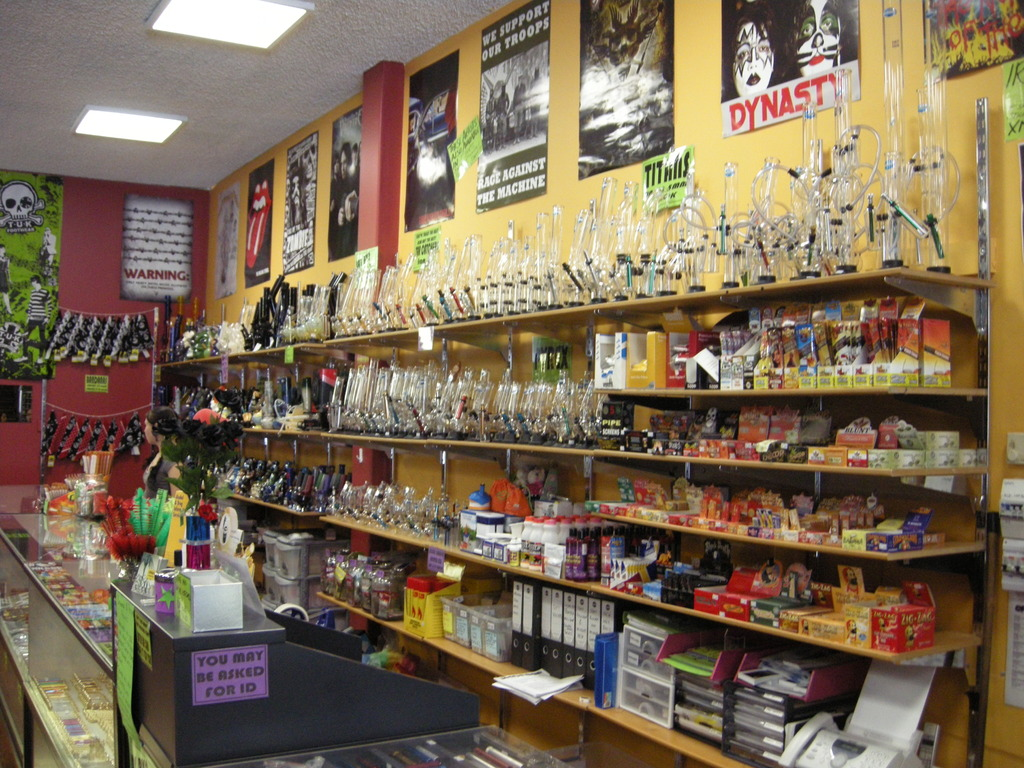Person: (778, 0, 858, 78), (327, 140, 361, 254), (732, 4, 773, 96), (142, 403, 180, 495), (25, 273, 52, 357), (0, 242, 14, 314)
